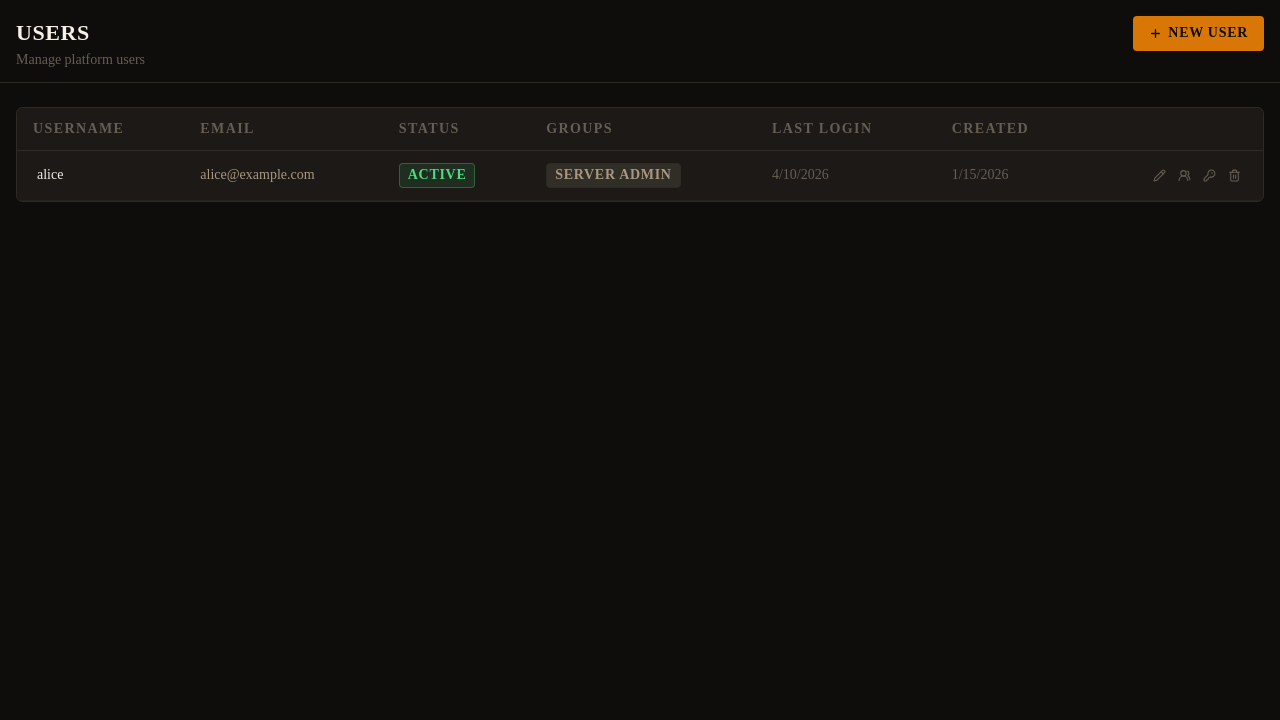
UsersPage › Delete User modal › error shown on failure
Expected: the text "alice" is shown, left=37, top=168, right=63, bottom=182
Click the button titled "Delete" at (1234, 176), box left=1222, top=163, right=1247, bottom=188
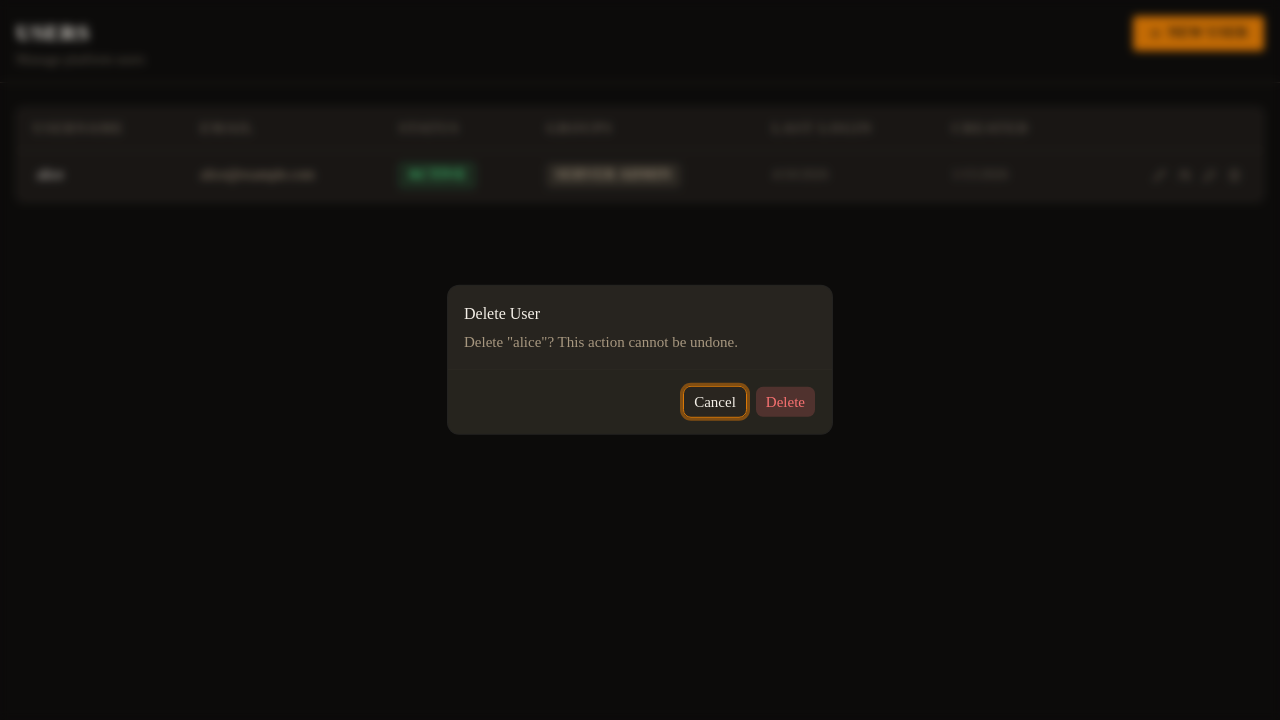
Now the heading "Delete User" is shown, box left=464, top=302, right=540, bottom=326
Click the button "Delete" at (785, 402), box left=755, top=386, right=816, bottom=418
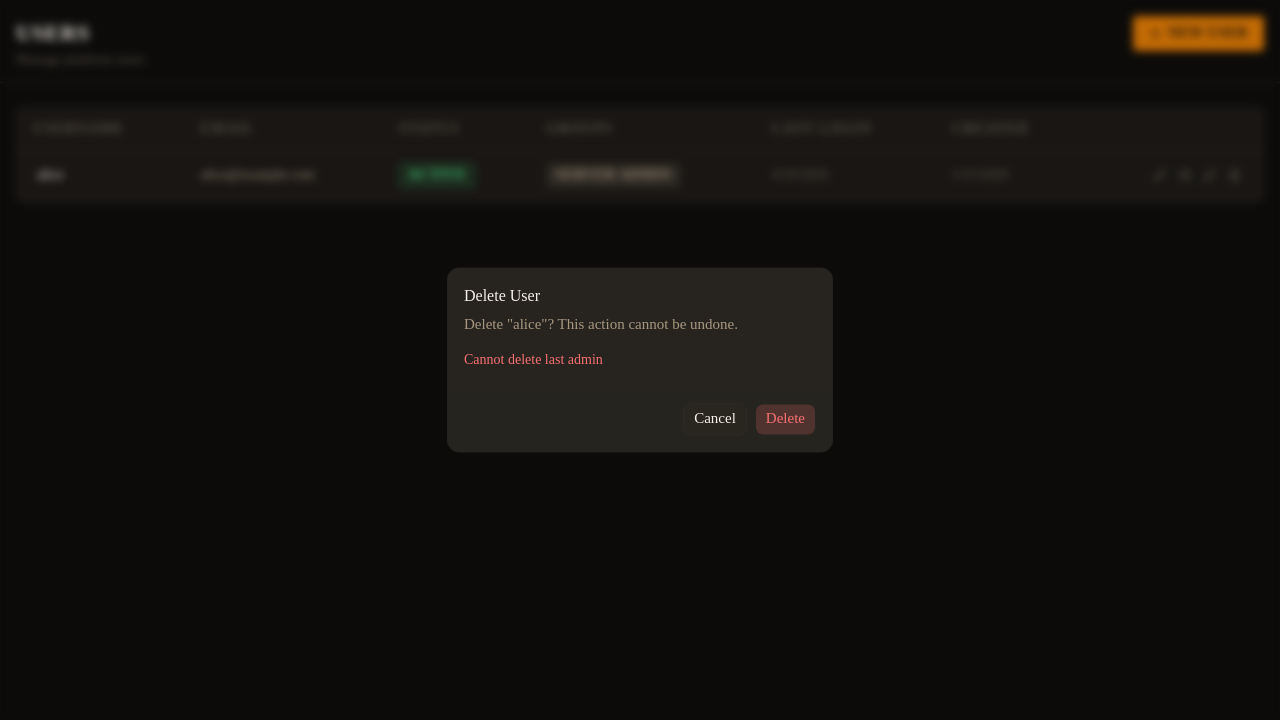
Now the text "Cannot delete last admin" is shown, box left=464, top=353, right=603, bottom=368
